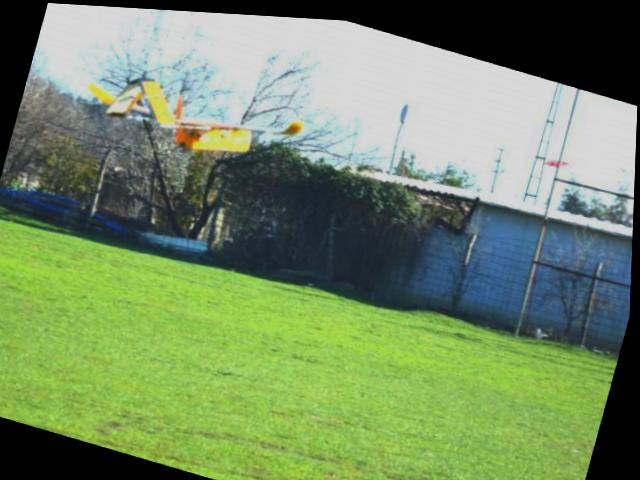iha: (67, 51, 322, 180)
